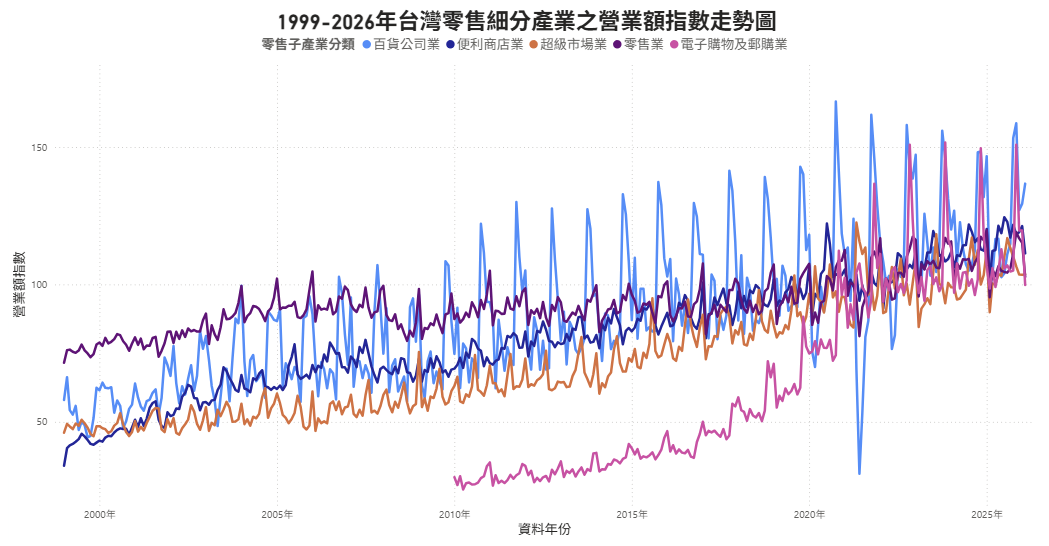

What the dashboard file says about the page in this screenshot:
{"tool":"powerbi","page":{"name":"第 1 頁","canvas":[1280,720],"ordinal":0},"visuals":[{"type":"lineChart","title":"1999-2026年台灣零售細分產業之營業額指數走勢圖","fields":{"Category":["經濟部統計處_批發、零售及餐飲業營業額指數.日期.變化.日期階層.年","經濟部統計處_批發、零售及餐飲業營業額指數.日期.變化.日期階層.季","經濟部統計處_批發、零售及餐飲業營業額指數.日期.變化.日期階層.月","經濟部統計處_批發、零售及餐飲業營業額指數.日期.變化.日期階層.日"],"Y":["Sum(經濟部統計處_批發、零售及餐飲業營業額指數.統計值(指數))"],"Series":["經濟部統計處_批發、零售及餐飲業營業額指數.行業別"]},"box":[19.7,39.4,1238.2,641.5],"z":0}]}

Visuals, with their boxes on the page's 1280x720 design canvas (x1, y1, x2, y2). These are canvas units, not pixel positions in the 1049x546 screenshot, which may show the page scaled, cropped or inside an application window:
"1999-2026年台灣零售細分產業之營業額指數走勢圖" lineChart: select_region(20, 39, 1258, 681)
